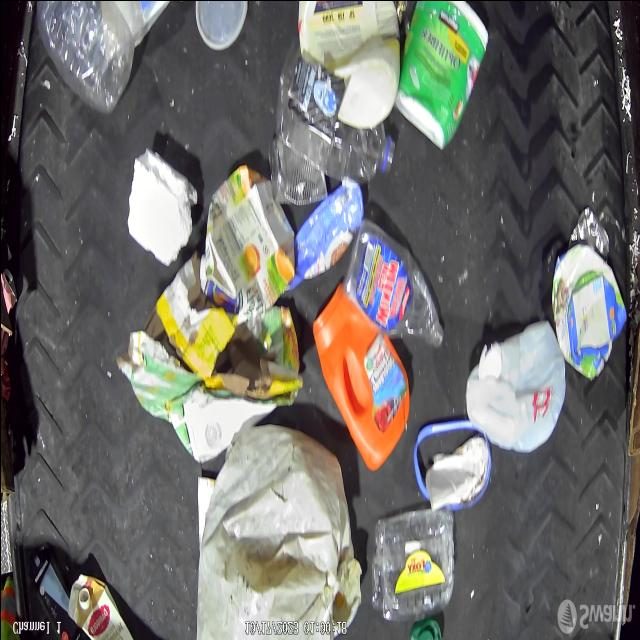can: (268, 140, 326, 207)
milk_jug: (464, 319, 566, 453)
non_white_jug: (316, 296, 410, 468), (200, 163, 295, 319), (296, 0, 401, 129), (66, 572, 134, 640)
plastic_bottle: (277, 38, 394, 186), (346, 220, 444, 350), (37, 0, 132, 115), (370, 506, 458, 622)
